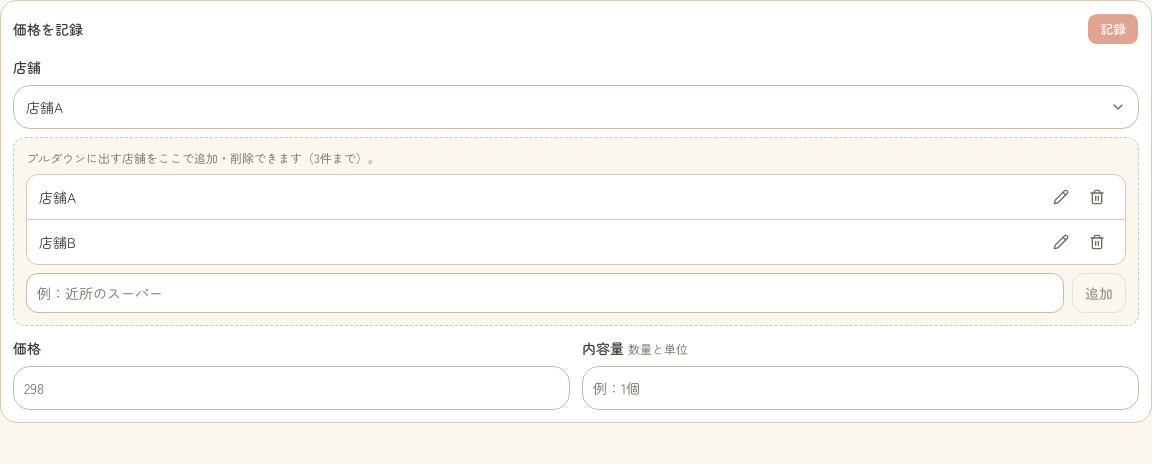
Test: PriceRecordForm › PRF-04: 既存と同名を入力すると、送信前に同名メッセージが出て追加できない
Expected: the text "プルダウンに出す店舗をここで追加・削除できます（3件まで）。" is shown, x1=26 y1=149 x2=380 y2=166
Type "店舗A" into the field named "追加する店舗名".
click(545, 293); type("店舗A")  # box x1=26 y1=273 x2=1064 y2=313
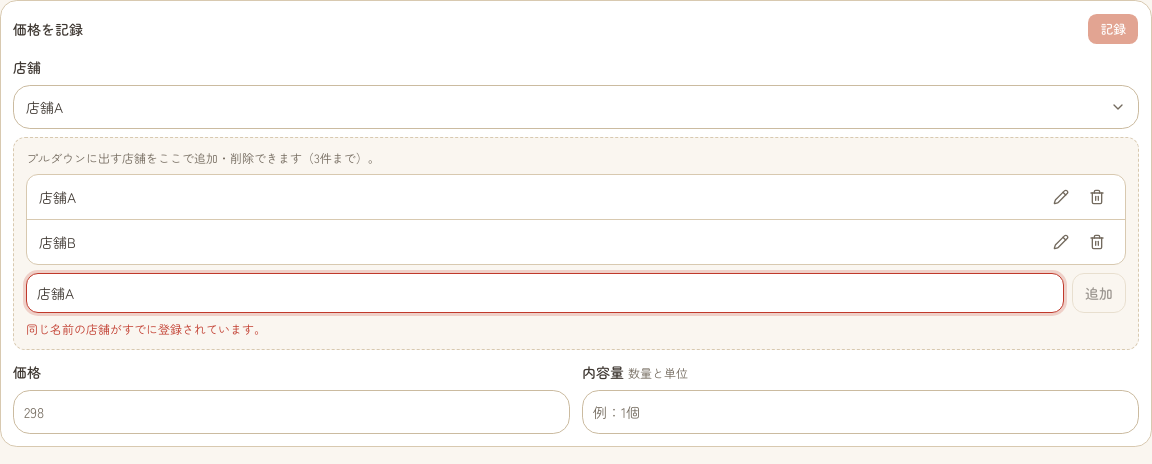
Expected: the button "追加" is disabled, x1=1072 y1=273 x2=1126 y2=313
Result: the text "同じ名前の店舗がすでに登録されています。" is shown at x1=26 y1=320 x2=266 y2=337
